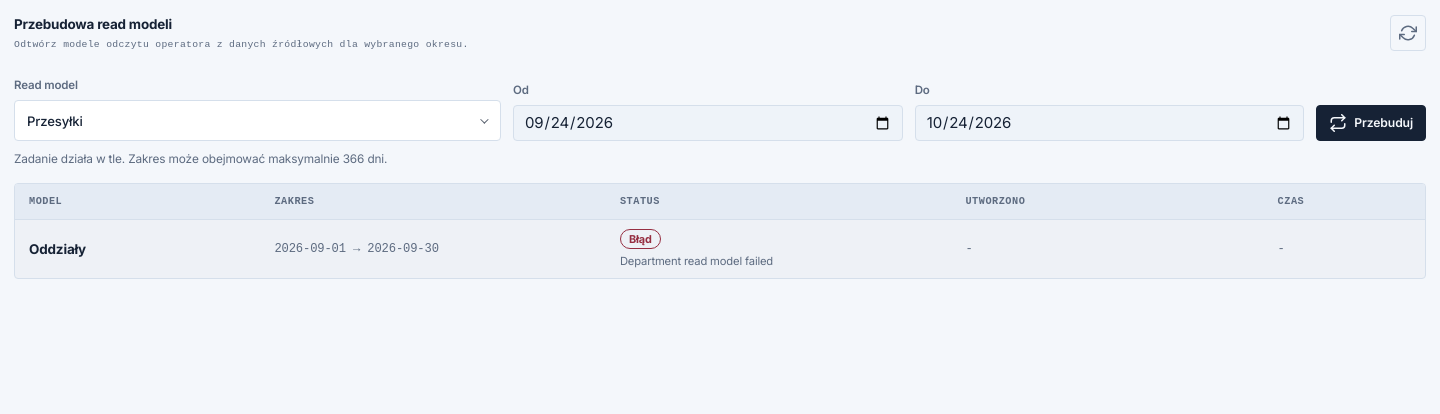
Scenario: OperatorReadModelPanel › starts rebuild for selected model and range
This screenshot has width=1440, height=414.
Expected: the button "Przebuduj" is enabled, [1316, 105, 1426, 141]
Type "2026-10-01" into the date field labelled "Od" at {"x": 708, "y": 123}, box [513, 105, 903, 141]
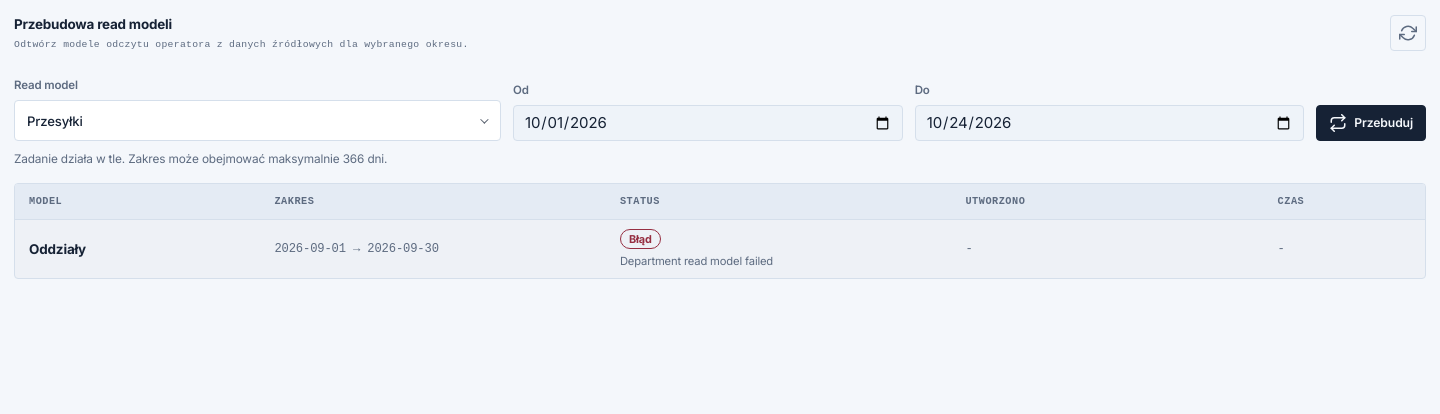
Type "2026-10-17" into the date field labelled "Do" at {"x": 1110, "y": 123}, box [915, 105, 1304, 141]
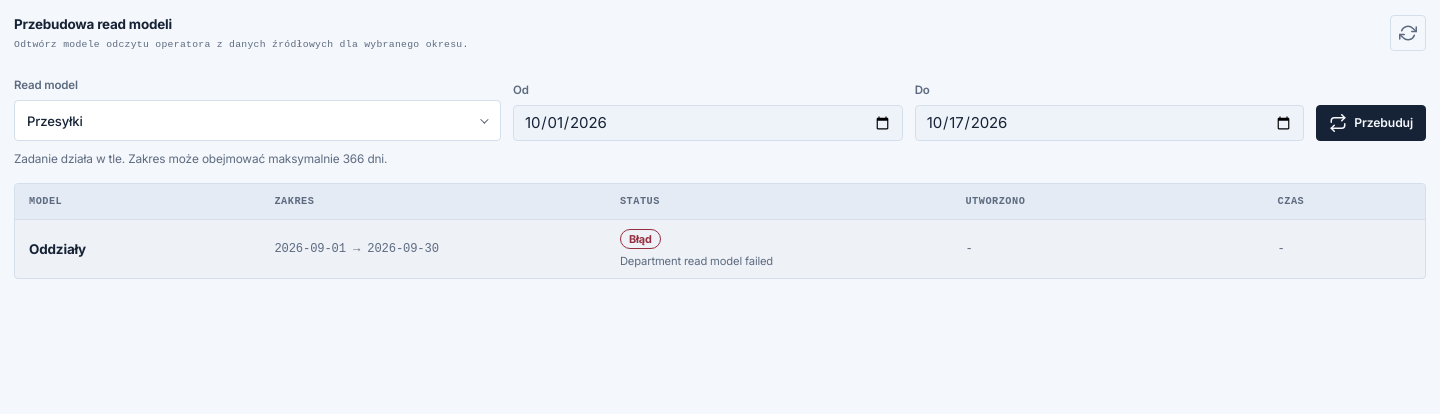
Click the button "Przebuduj" at {"x": 1371, "y": 123}, box [1316, 105, 1426, 141]
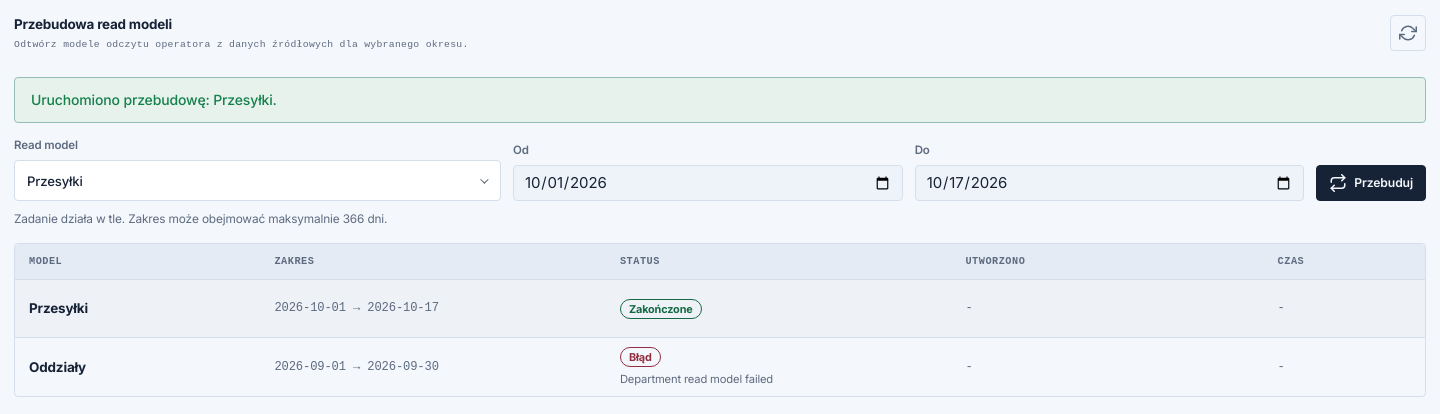
Now the text "Zakończone" is shown, box [620, 299, 702, 319]
